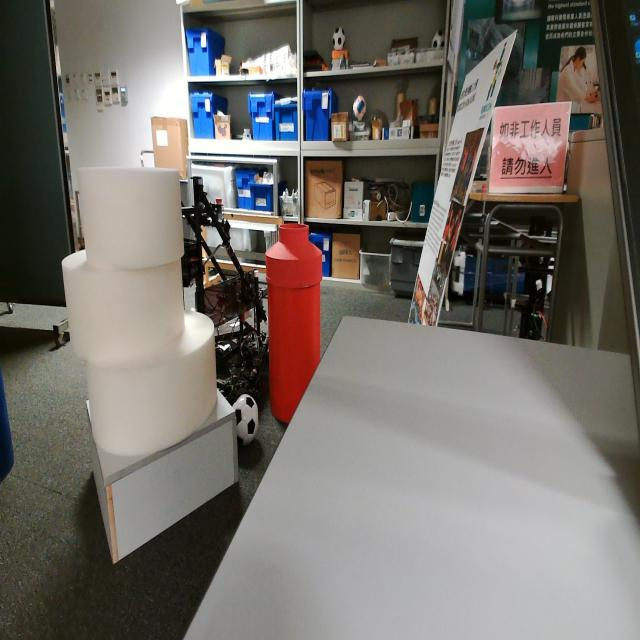ball: (232, 394, 258, 441), (330, 28, 346, 49), (352, 97, 366, 118), (432, 27, 444, 49)
